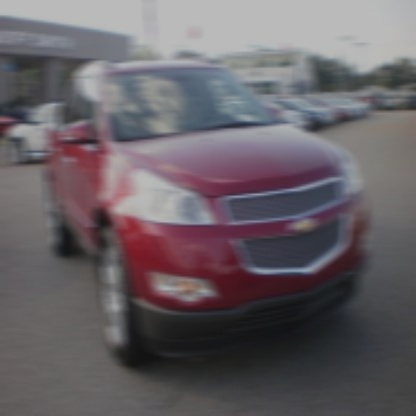Vehicle: (47, 1, 370, 364)
